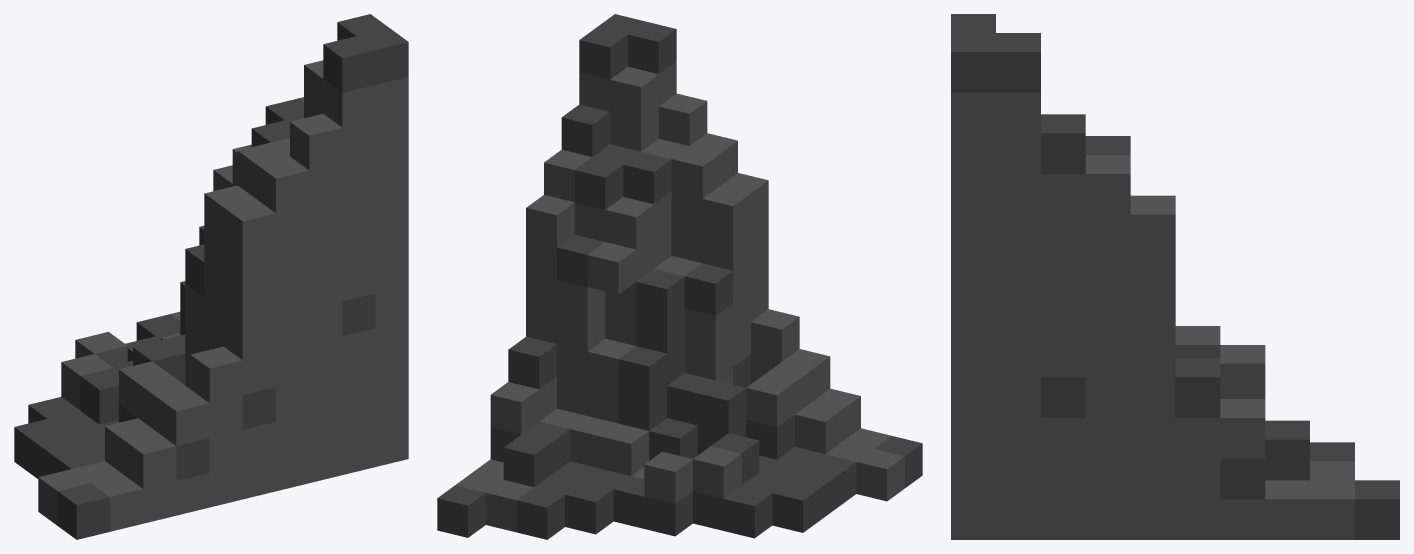
The model's file is Stein_ecke-1.0-0.obj.
3 views of the same model, side by side, from view 1: azimuth 30°, elevation 25°; view 2: azimuth 150°, elevation 25°; view 3: azimuth 270°, elevation 25° (orthographic). The views are drawn at different scales.
Bounding box in the file's own units: 1 × 1.2 × 1.
Materials: 1 (1 with a texture image).
